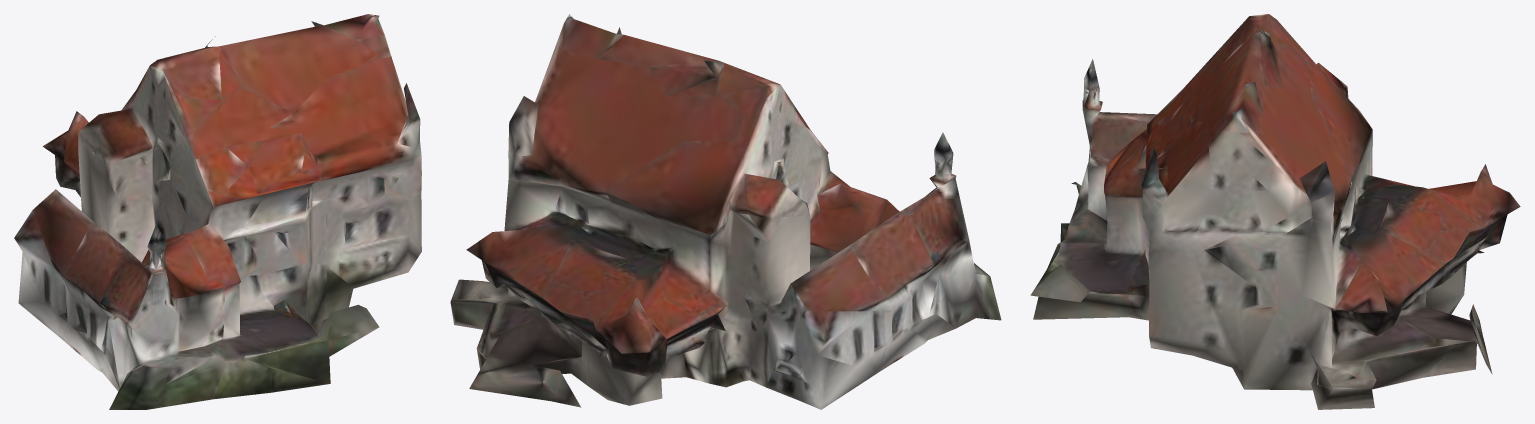
Rendered from fairytale-castle.lod.glb.
3 renders of one model, left to right at view 1: azimuth 30°, elevation 25°; view 2: azimuth 150°, elevation 25°; view 3: azimuth 270°, elevation 25°, orthographic. The views are drawn at different scales.
Parts seen in each view (by area): view 1: tripo_node_6df8ebc9-4445-48fb-8ed5-7a68136735d4; view 2: tripo_node_6df8ebc9-4445-48fb-8ed5-7a68136735d4; view 3: tripo_node_6df8ebc9-4445-48fb-8ed5-7a68136735d4.
Boxes of the visible parts, x1,y1,x2,y2 form: tripo_node_6df8ebc9-4445-48fb-8ed5-7a68136735d4: (14, 14, 421, 409); tripo_node_6df8ebc9-4445-48fb-8ed5-7a68136735d4: (450, 14, 1001, 409); tripo_node_6df8ebc9-4445-48fb-8ed5-7a68136735d4: (1030, 14, 1520, 409).
Size of the model in its own units: 0.9851 by 0.6356 by 0.9896.
Materials: 1 (1 with a texture image).
